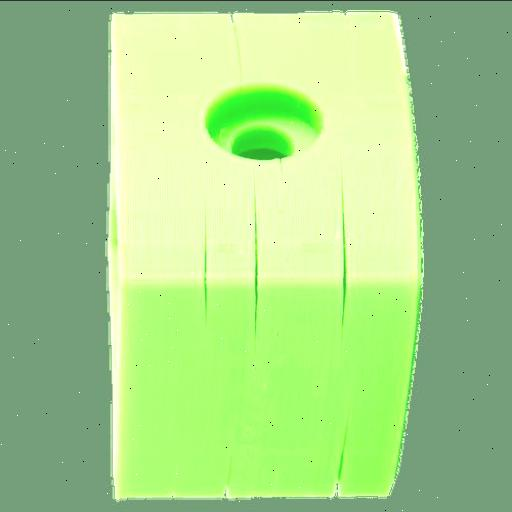cracks: (242, 184, 276, 346), (326, 175, 360, 332), (318, 390, 364, 506), (188, 194, 218, 328), (211, 400, 249, 504), (216, 6, 252, 78), (214, 442, 242, 502), (271, 147, 289, 189)
